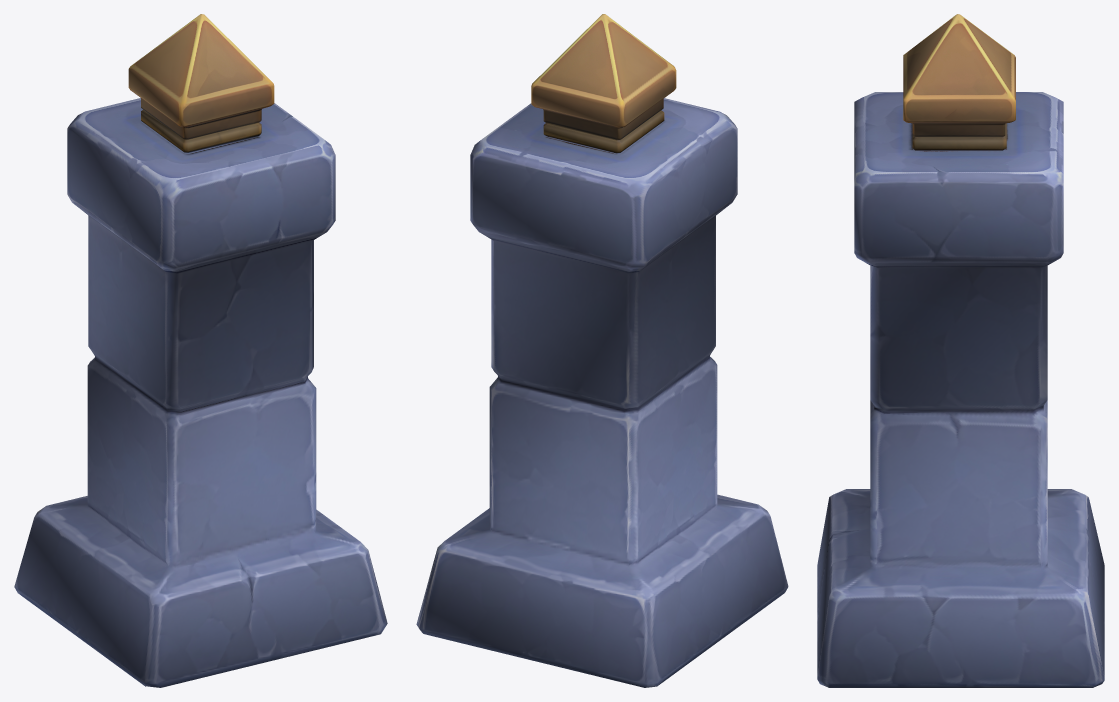
The model's file is stone_pillar.glb.
3 views of the same model, side by side, from view 1: azimuth 30°, elevation 25°; view 2: azimuth 150°, elevation 25°; view 3: azimuth 270°, elevation 25° (orthographic). The views are drawn at different scales.
Visible parts, largest first — view 1: tripo_node_f04b65f3-9f06-4031-b48d-ffebf500fc4d; view 2: tripo_node_f04b65f3-9f06-4031-b48d-ffebf500fc4d; view 3: tripo_node_f04b65f3-9f06-4031-b48d-ffebf500fc4d.
Boxes of the visible parts, x1,y1,x2,y2 form: tripo_node_f04b65f3-9f06-4031-b48d-ffebf500fc4d: [14, 14, 387, 687]; tripo_node_f04b65f3-9f06-4031-b48d-ffebf500fc4d: [416, 14, 788, 687]; tripo_node_f04b65f3-9f06-4031-b48d-ffebf500fc4d: [817, 14, 1104, 687].
Size of the model in its own units: 0.4238 by 0.998 by 0.4238.
Materials: 1 (1 with a texture image).
